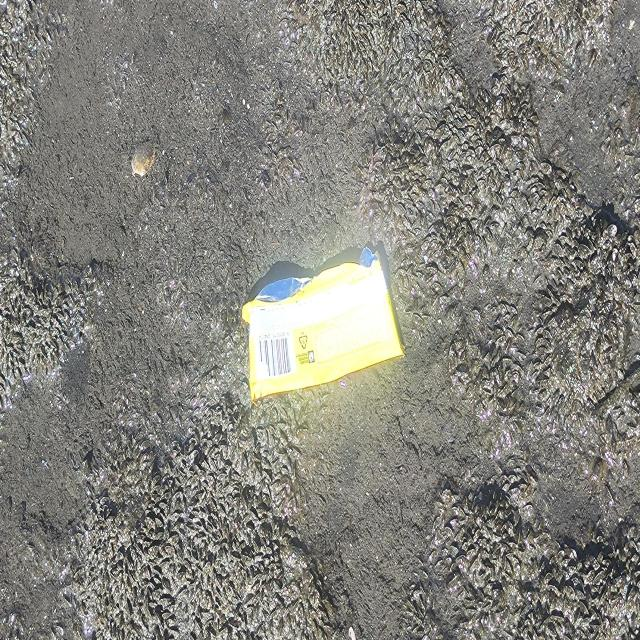plastic_waste: (243, 248, 406, 404)
